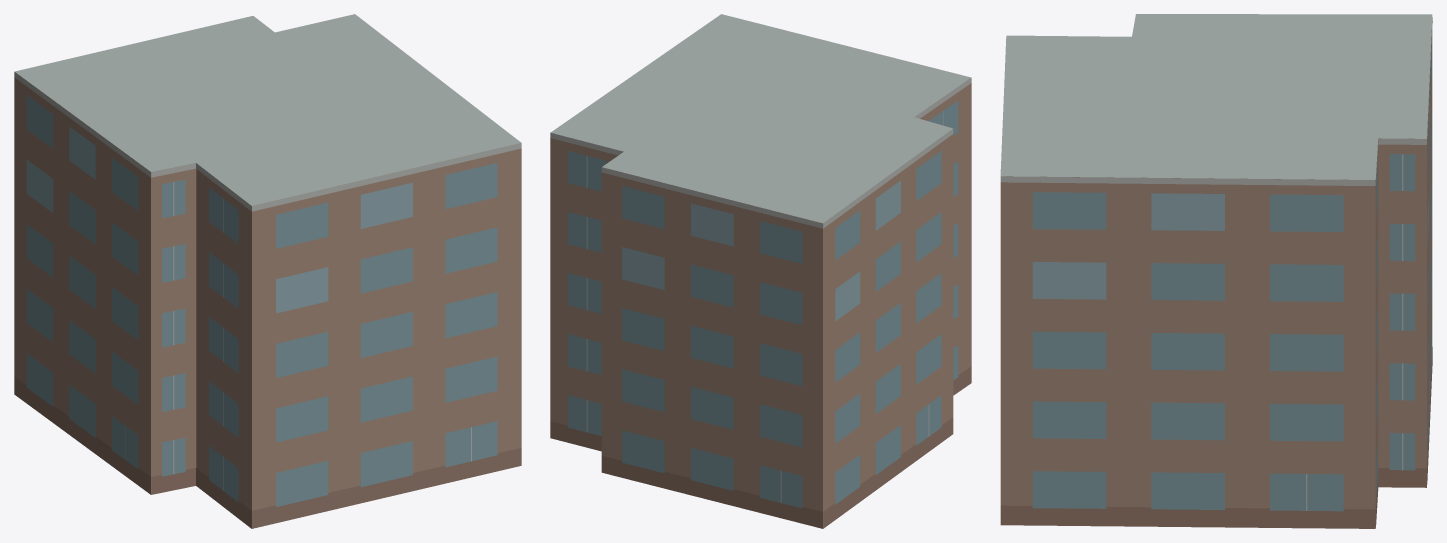
Rendered from survey-upis-33005412.glb.
3 renders of one model, left to right at view 1: azimuth 30°, elevation 25°; view 2: azimuth 150°, elevation 25°; view 3: azimuth 270°, elevation 25°, orthographic. The views are drawn at different scales.
Parts seen in each view (by area): view 1: survey-upis-33005412.tmp; view 2: survey-upis-33005412.tmp; view 3: survey-upis-33005412.tmp.
Part boxes in pixels (<box>): survey-upis-33005412.tmp: <box>14,14,521,528</box>; survey-upis-33005412.tmp: <box>550,14,971,528</box>; survey-upis-33005412.tmp: <box>1000,14,1432,528</box>.
Size of the model in its own units: 14.3 by 14 by 15.72.
